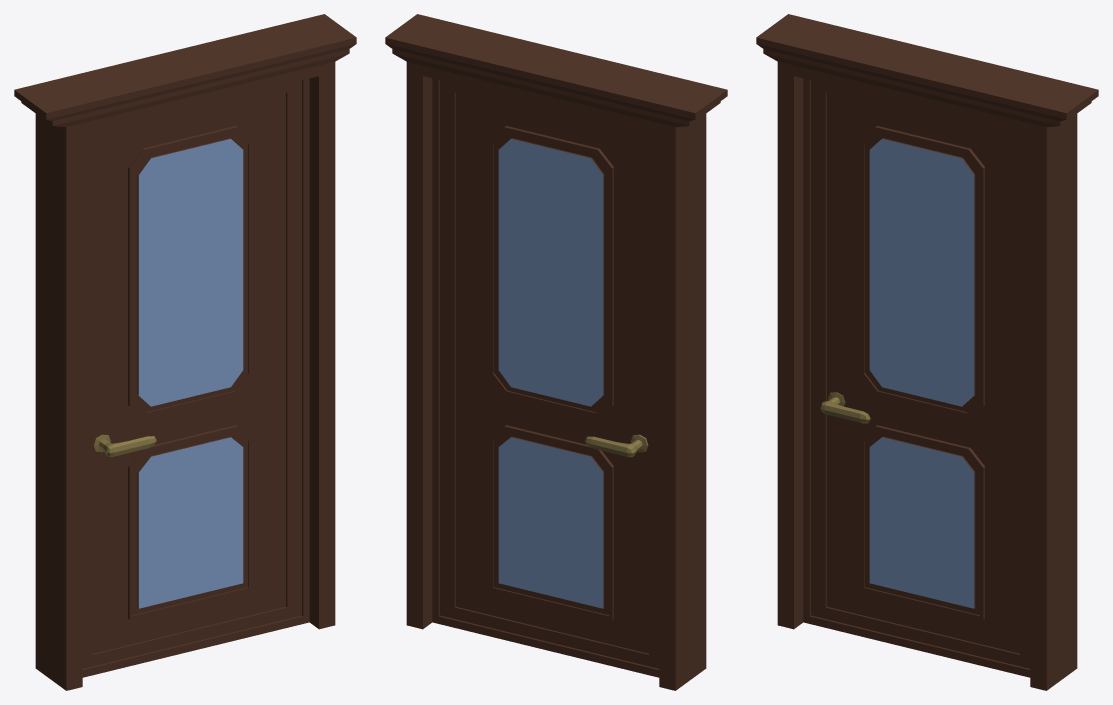
The picture shows the model from 3 angles, left to right: view 1: azimuth 30°, elevation 25°; view 2: azimuth 150°, elevation 25°; view 3: azimuth 330°, elevation 25°; orthographic projection.
Parts seen in each view (by area): view 1: Door_Cube.008, DoorFrame_Cube.010, DoorHandle_Cube.009; view 2: Door_Cube.008, DoorFrame_Cube.010, DoorHandle_Cube.009; view 3: Door_Cube.008, DoorFrame_Cube.010, DoorHandle_Cube.009.
Boxes of the visible parts, <box> form: Door_Cube.008: <box>82,78,309,677</box>; DoorFrame_Cube.010: <box>14,14,356,690</box>; DoorHandle_Cube.009: <box>93,434,156,456</box>; Door_Cube.008: <box>432,78,659,677</box>; DoorFrame_Cube.010: <box>385,14,727,690</box>; DoorHandle_Cube.009: <box>585,434,648,457</box>; Door_Cube.008: <box>803,78,1030,677</box>; DoorFrame_Cube.010: <box>756,14,1098,690</box>; DoorHandle_Cube.009: <box>820,392,870,423</box>.
Bounding box in the file's own units: 1.75 × 3.14 × 0.3199.
